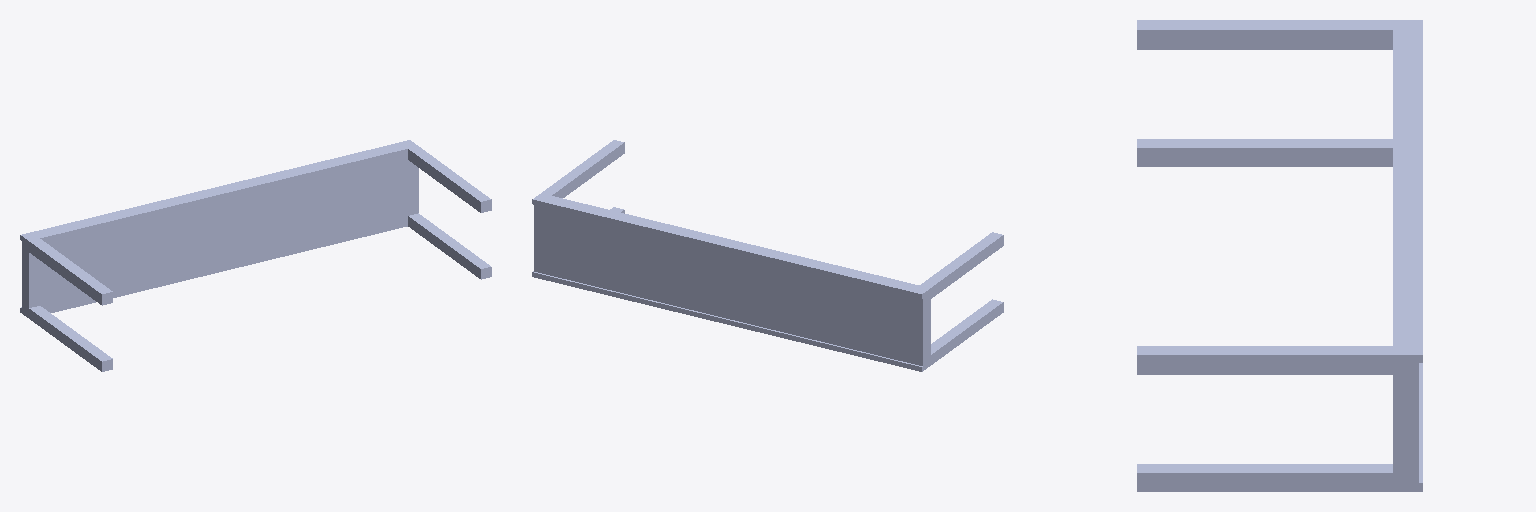
The robot description file, URDF, robot "conveyor_belt":
<?xml version="1.0" encoding="utf-8"?>
<!-- This URDF was automatically created by SolidWorks to URDF Exporter! Originally created by [author] ([email redacted]) 
     Commit Version: 1.5.1-0-g916b5db  Build Version: 1.5.7152.31018
     For more information, please see http://wiki.ros.org/sw_urdf_exporter -->
<robot
  name="conveyor_belt">
  <link
    name="conveyor_belt">
    <inertial>
      <origin
        xyz="1.0468 -0.083279 -0.1994"
        rpy="0 0 0" />
      <mass
        value="68.822" />
      <inertia
        ixx="2.5615"
        ixy="-0.071915"
        ixz="0.000879579999999996"
        iyy="32.429"
        iyz="-0.013471"
        izz="32.813" />
    </inertial>
    <visual>
      <origin
        xyz="0 0 0"
        rpy="1.5707963267949 0 0" />
      <geometry>
        <mesh
          filename="package://conveyor_belt/meshes/conveyor_belt.STL" />
      </geometry>
      <material
        name="">
        <color
          rgba="0.79216 0.81961 0.93333 1" />
        <texture
          filename="package://conveyor_belt/textures/" />
      </material>
    </visual>
    <collision>
      <origin
        xyz="0 0 0"
        rpy="1.5707963267949 0 0" />
      <geometry>
        <mesh
          filename="package://conveyor_belt/meshes/conveyor_belt.STL" />
      </geometry>
    </collision>
  </link>
</robot>

--- Facts derived from the render (not from the file) ---
Views: 3 orthographic renders of the robot side by side, from view 1: azimuth 30°, elevation 25°; view 2: azimuth 150°, elevation 25°; view 3: azimuth 270°, elevation 25°.
Robot: conveyor_belt — 1 links, 0 joints (none); root link conveyor_belt; default pose: all joints at 0.
Visible links, largest first — view 1: conveyor_belt; view 2: conveyor_belt; view 3: conveyor_belt.
Boxes of the visible links, box(x1,y1,x2,y2) form: conveyor_belt: box(20, 140, 491, 371); conveyor_belt: box(532, 140, 1003, 371); conveyor_belt: box(1137, 20, 1422, 491).
Size in the robot's own frame: 2.1 by 0.76 by 0.4 metres.
1 mesh visuals loaded from 1 distinct referenced files (1 binary STL).